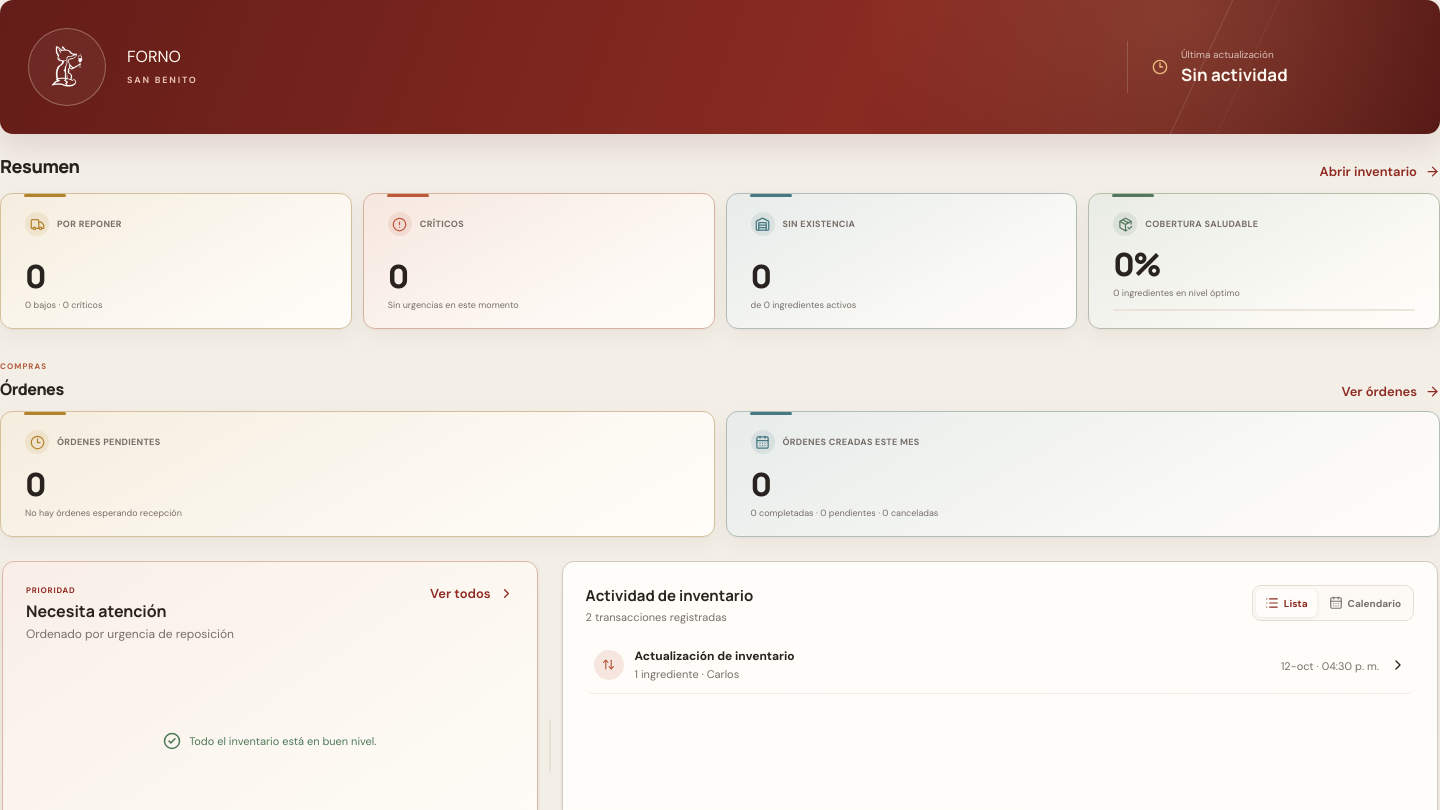
it: Dashboard inventory activity views › loads a month calendar and shows every activity for the selected day
The image size is (1440, 810).
Expected: the text "1 ingrediente · Carlos" is shown, [635,667,739,681]
Click the button "Calendario". click: (1365, 603)
box: [1320,589,1410,617]
(page scrolled)
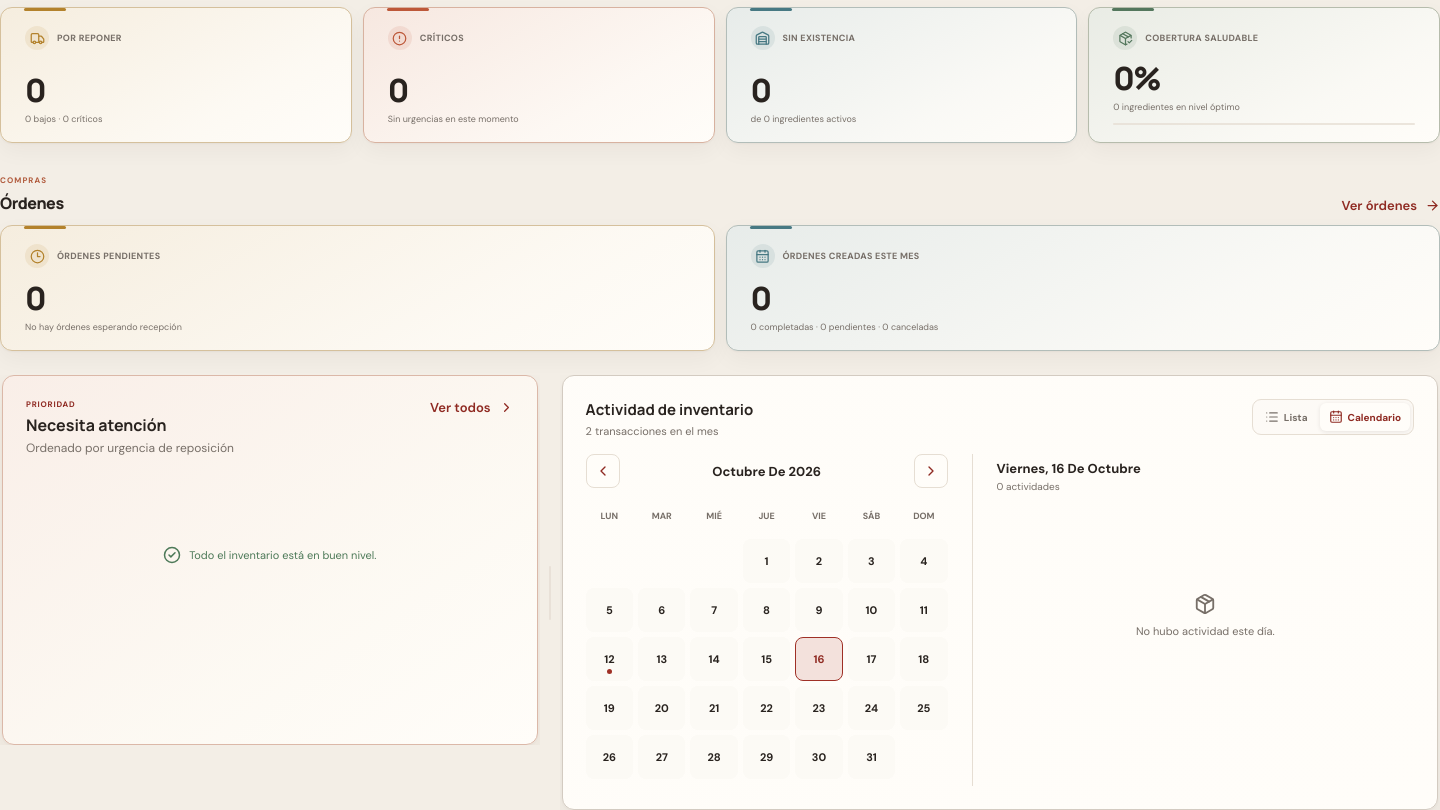
Click the button "12". click: (609, 659)
box: [586,637,633,681]
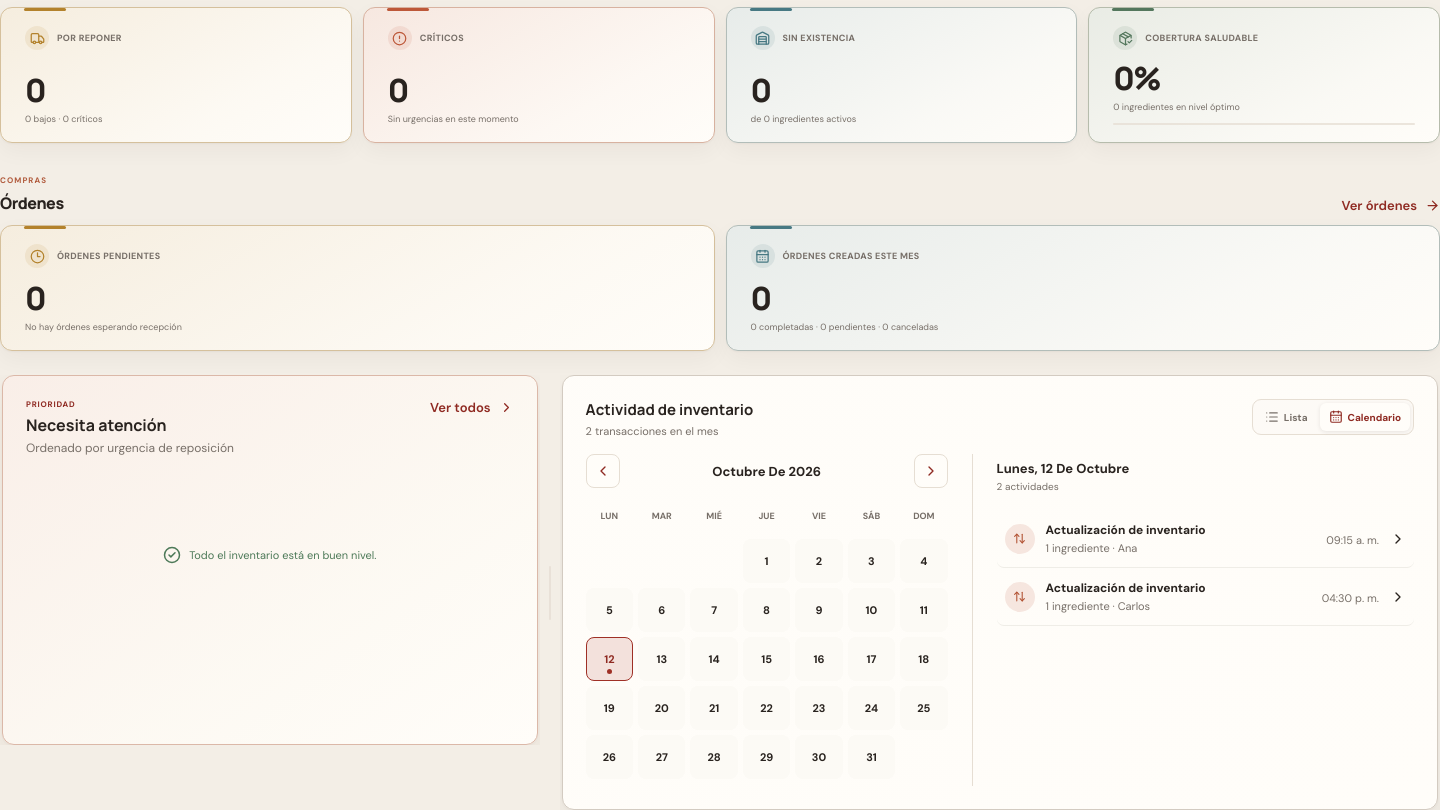
Expected: the text "2 actividades" is shown, [997,480,1059,493]
Expected: the text "1 ingrediente · Ana" is shown, [1046,541,1137,555]
Expected: the text "1 ingrediente · Carlos" is shown, [1046,599,1150,613]
